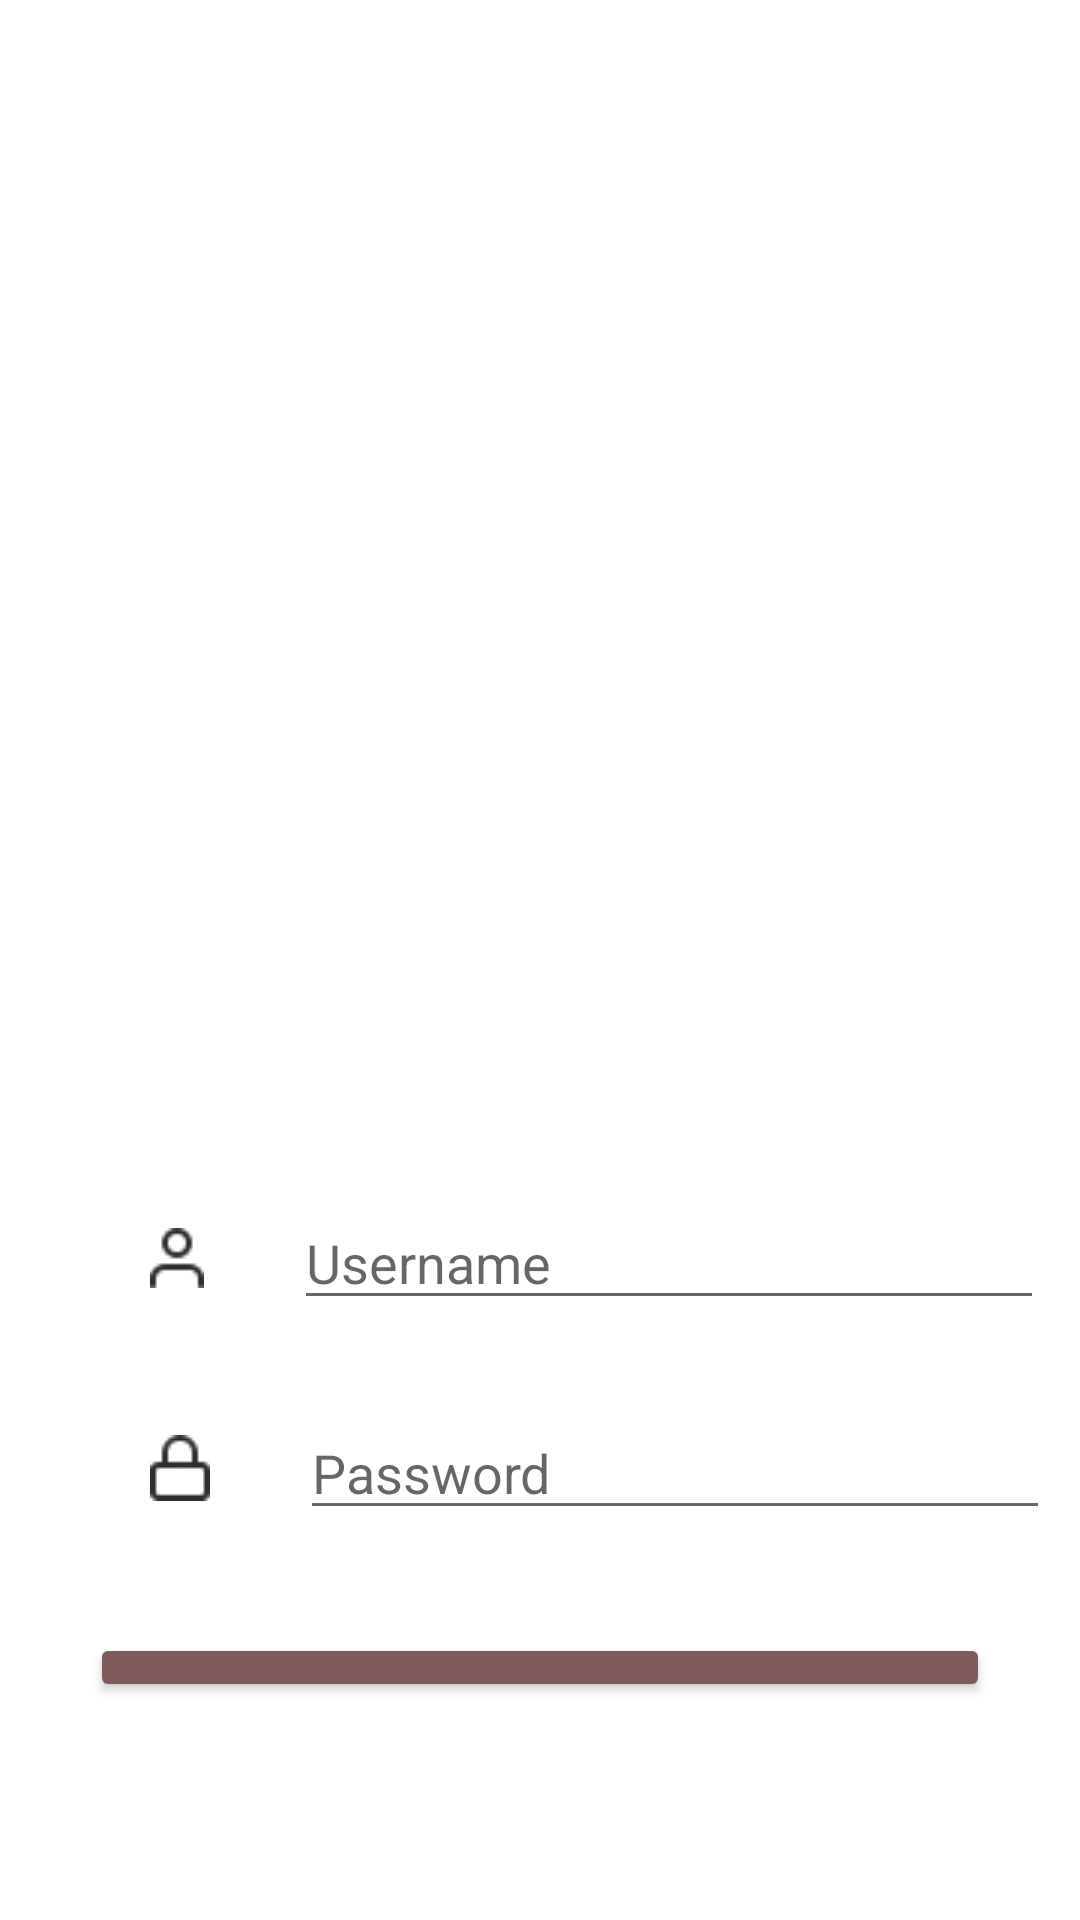

Named icons in this screenshot (1080w x 1920h) and their bounding boxes, (x1, y1, x2, y2):
feather lock: (150, 1435, 210, 1501)
feather user: (150, 1228, 204, 1288)
